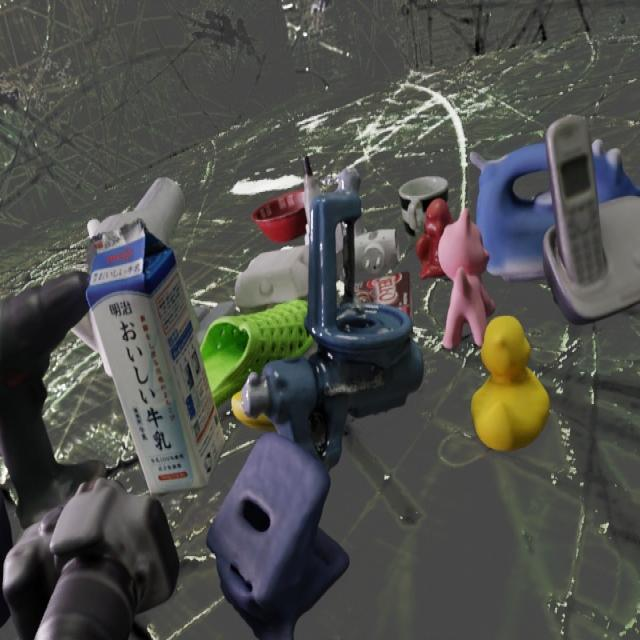Other Objects: (206, 433, 349, 639), (4, 477, 178, 639), (543, 115, 639, 323), (200, 299, 312, 405), (470, 143, 553, 280), (471, 316, 549, 451), (437, 208, 494, 348), (234, 245, 308, 308), (416, 196, 452, 277), (399, 176, 448, 235), (251, 189, 306, 241), (593, 141, 639, 203), (356, 272, 410, 315), (356, 229, 399, 272), (231, 391, 271, 428)
